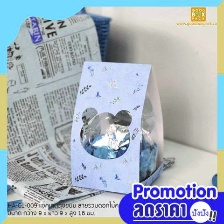snack: (64, 55, 170, 200)
